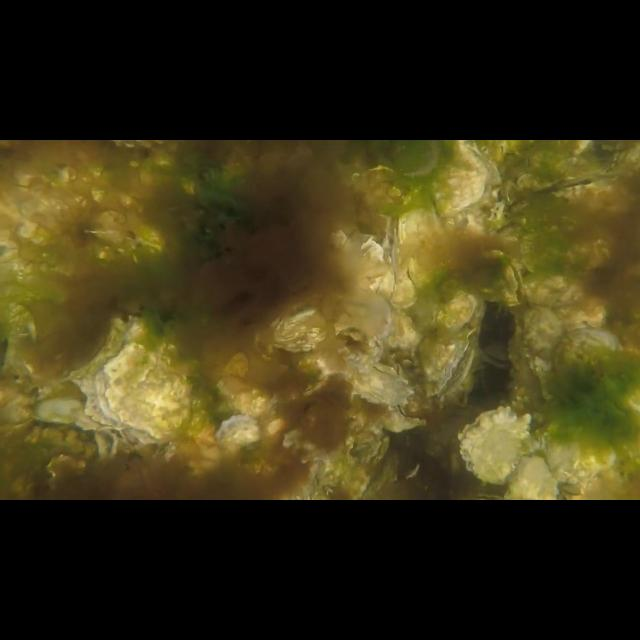Oyster-Closed: (537, 420, 617, 486), (340, 356, 416, 408), (423, 329, 479, 398), (384, 403, 428, 432)
Oyster-Indeterminate: (95, 342, 192, 442), (554, 324, 640, 412), (460, 406, 532, 484), (256, 300, 340, 354), (432, 140, 488, 220), (399, 207, 451, 291), (522, 302, 566, 398), (439, 290, 485, 336), (389, 238, 418, 310), (216, 412, 260, 446)
Oyster-Open: (536, 168, 610, 200), (502, 258, 528, 304)
